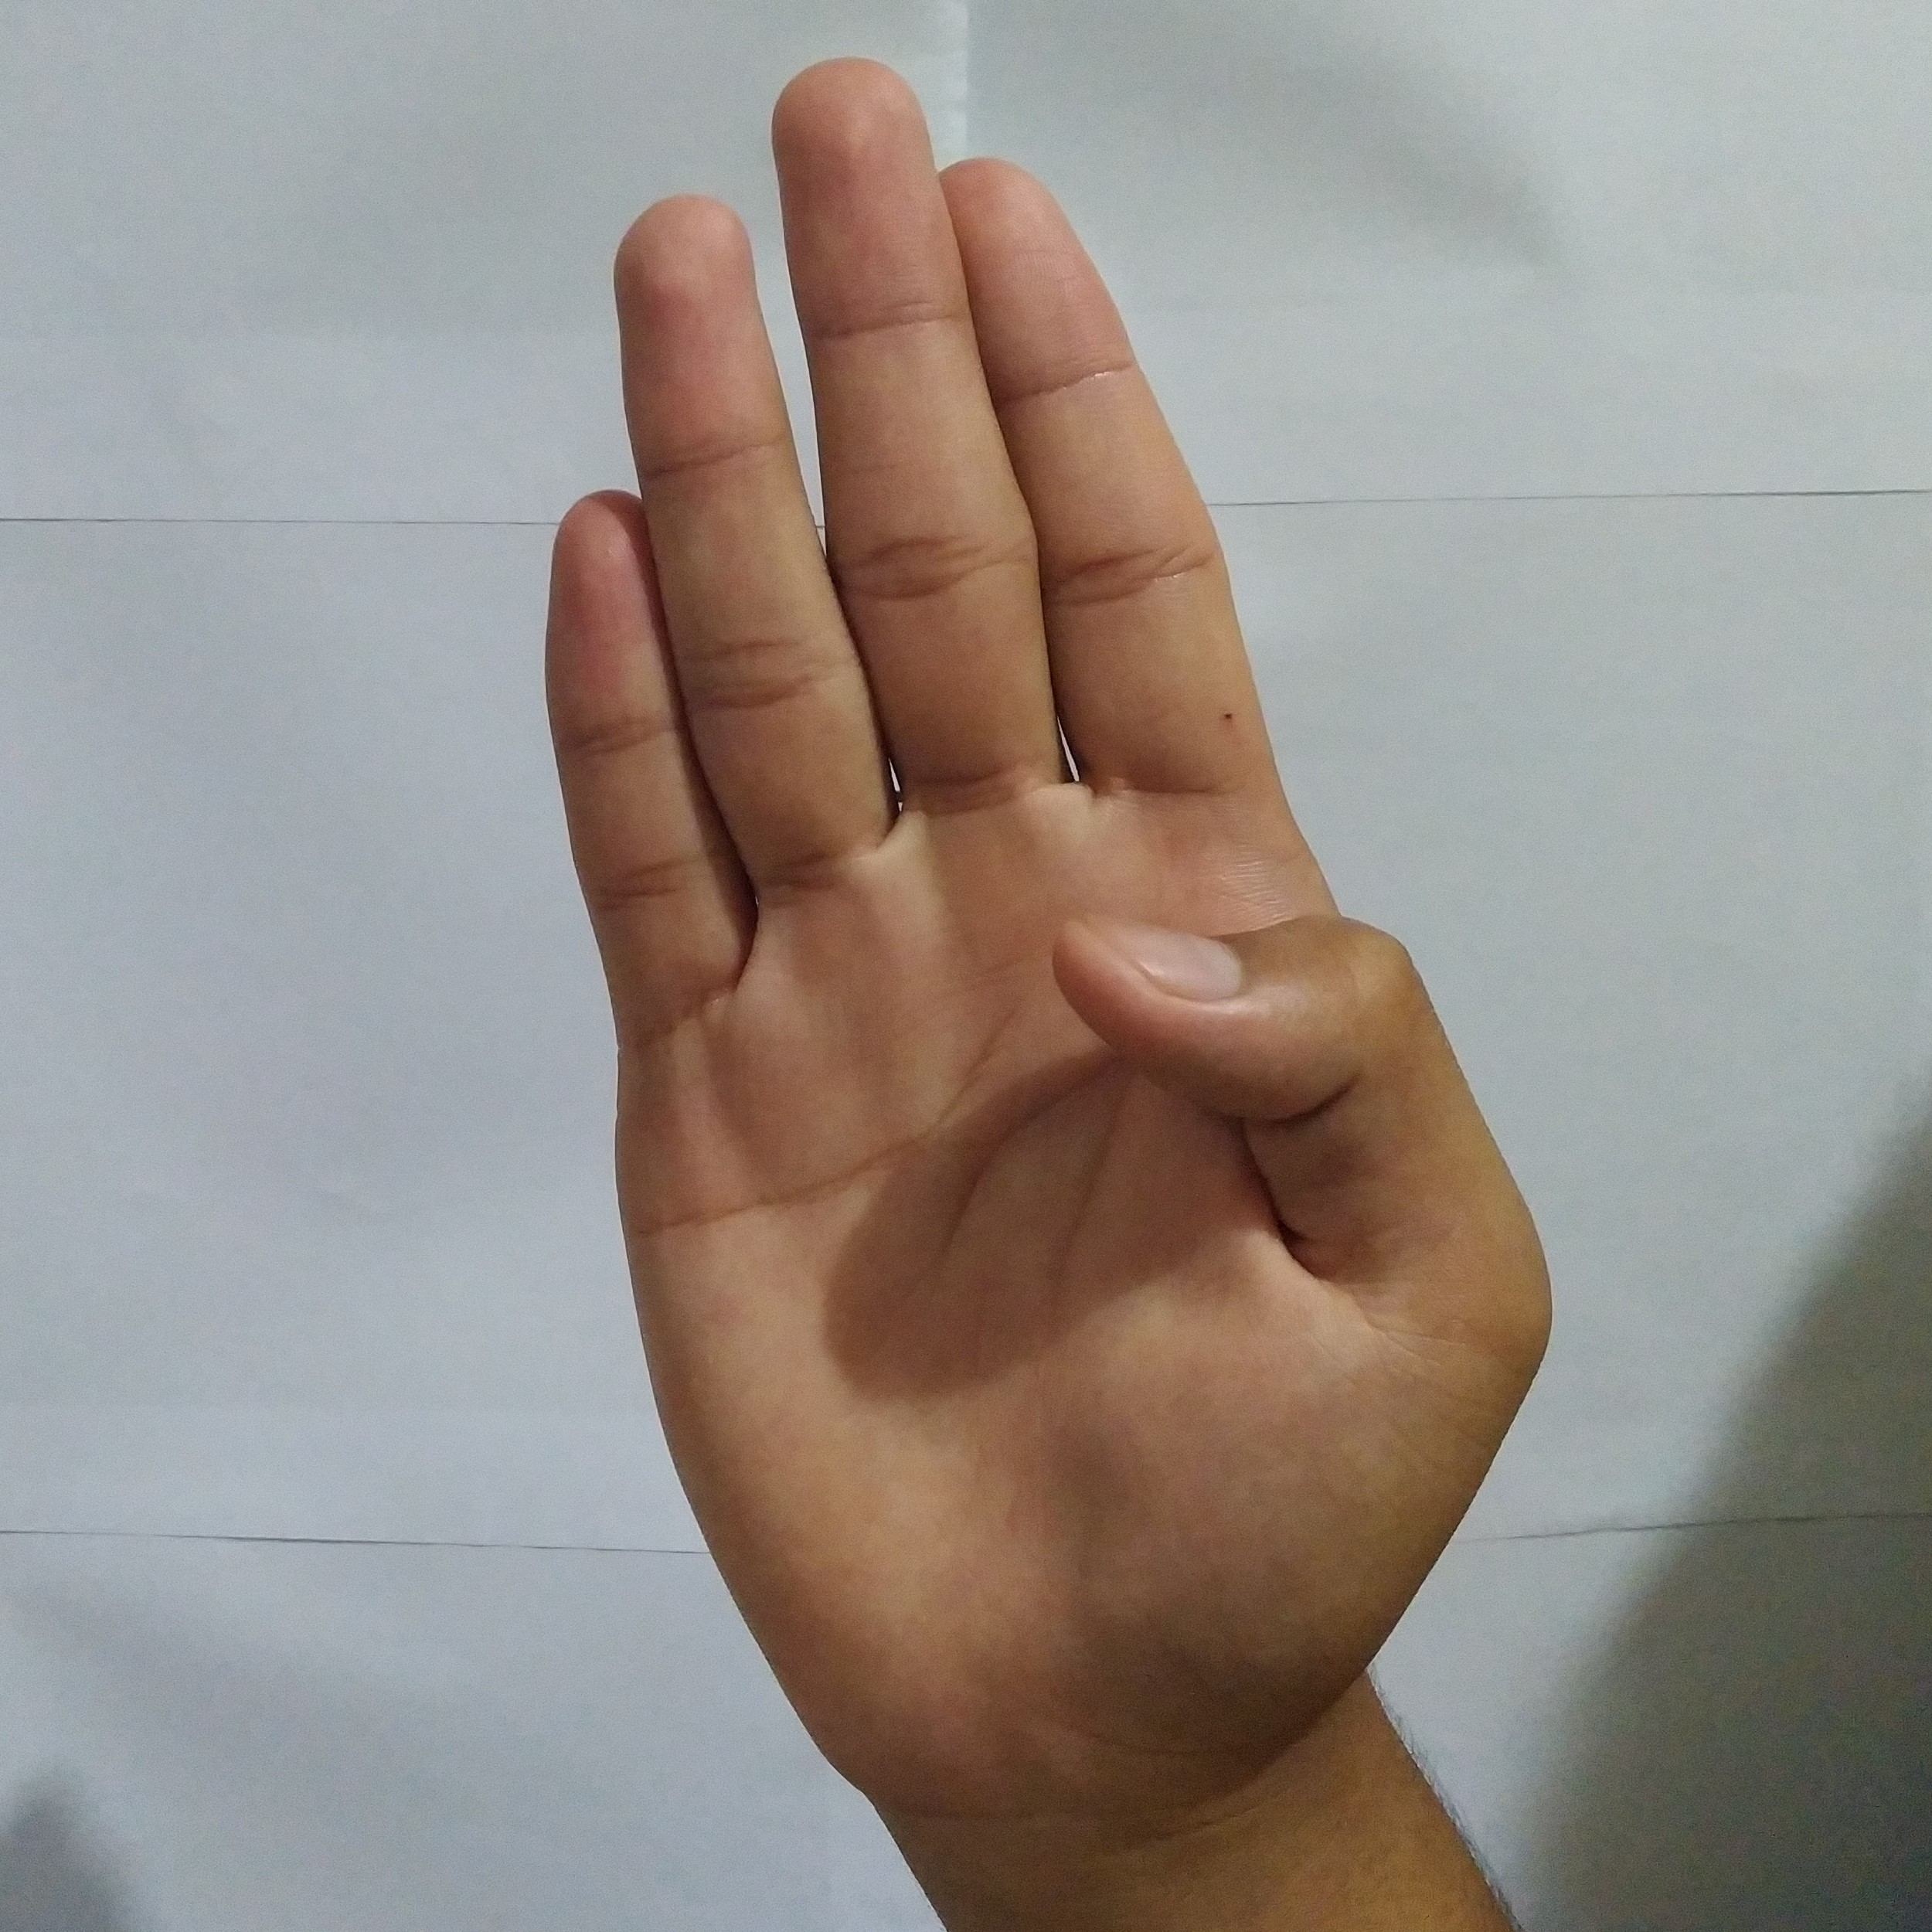B: (525, 39, 1571, 1780)
